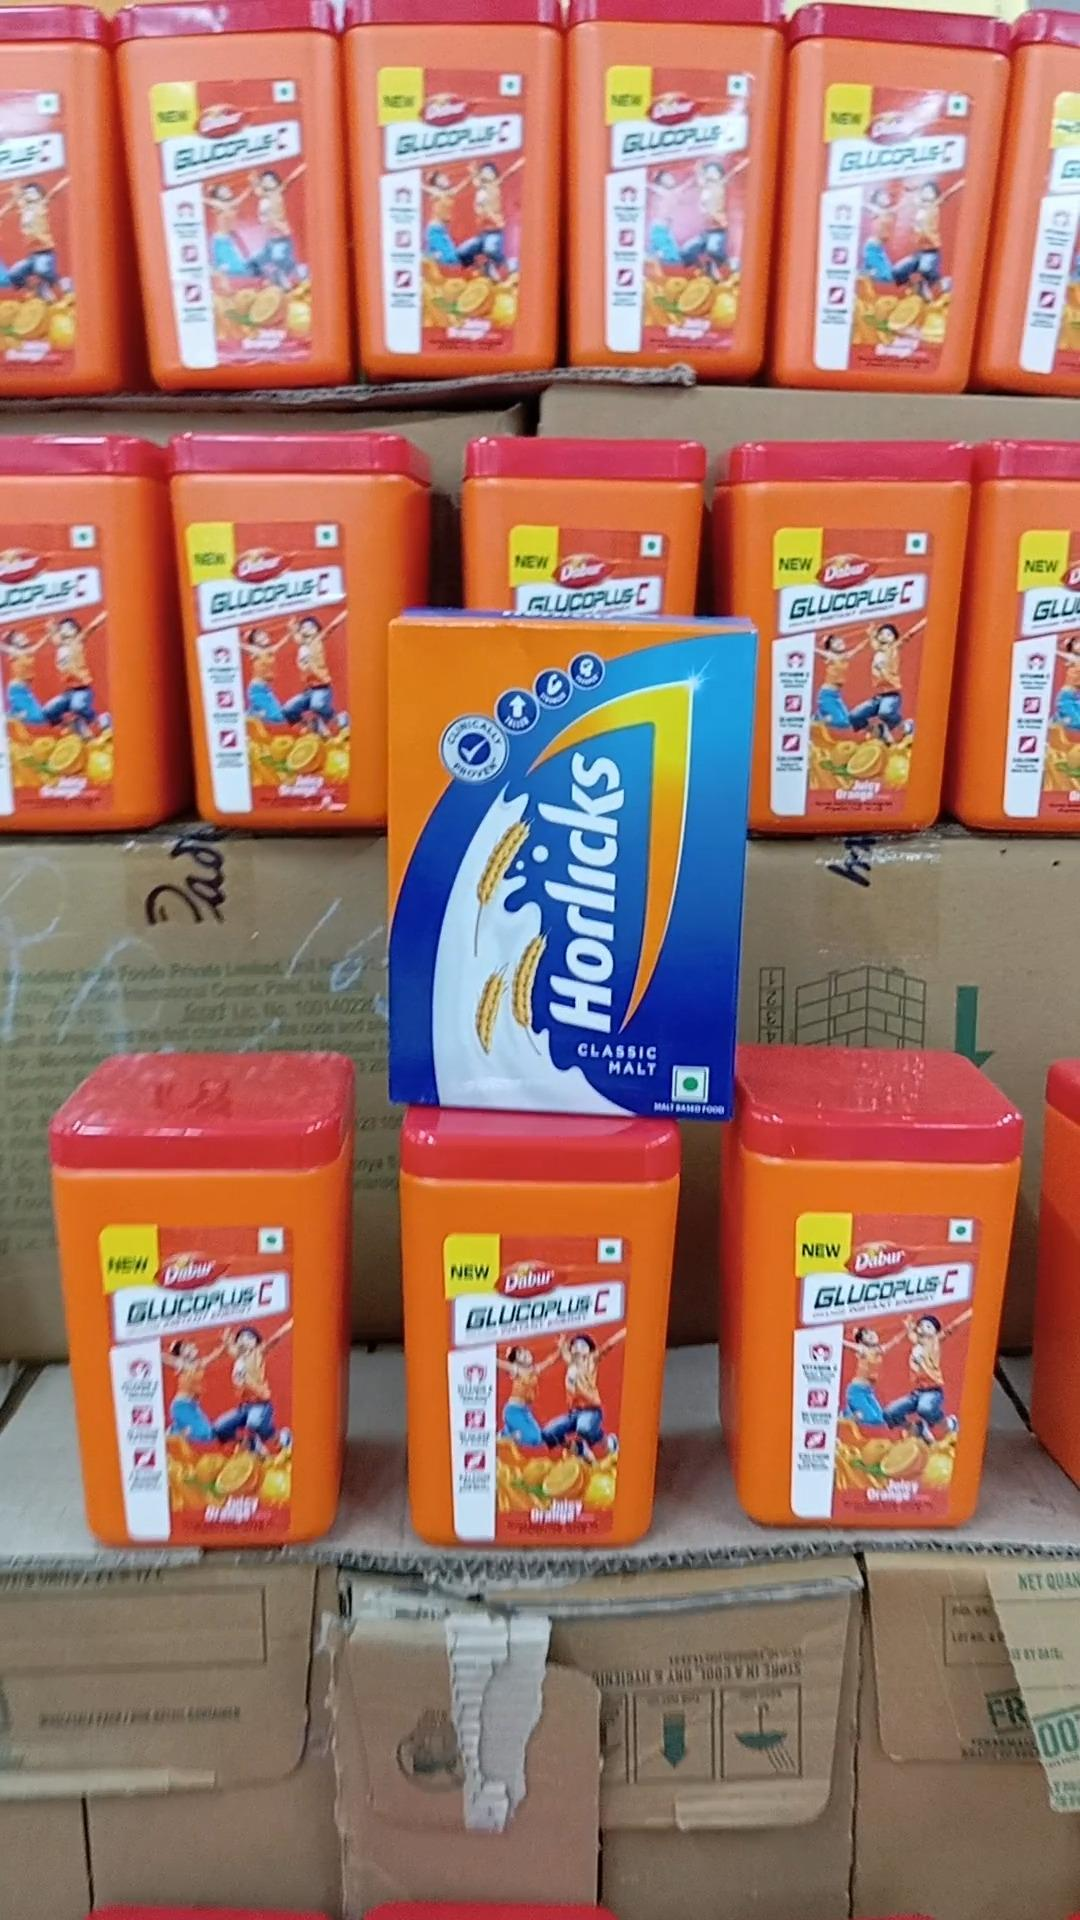HORLICK_CLASSIC_MALT_500_G_PACK: (386, 618, 752, 1116)
